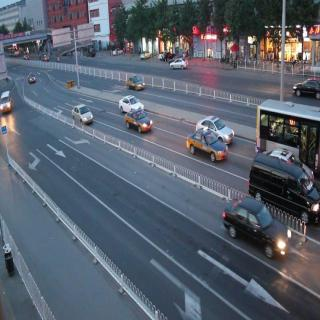BigCar: (256, 96, 320, 163)
Car: (252, 153, 320, 225), (226, 193, 289, 256), (187, 126, 228, 166), (198, 113, 233, 141), (126, 108, 150, 134), (295, 77, 320, 100), (72, 103, 93, 129), (0, 86, 15, 117), (120, 96, 140, 115), (127, 73, 145, 91), (170, 54, 187, 70), (27, 70, 38, 87), (88, 46, 100, 59), (112, 46, 124, 58), (141, 47, 150, 62)
